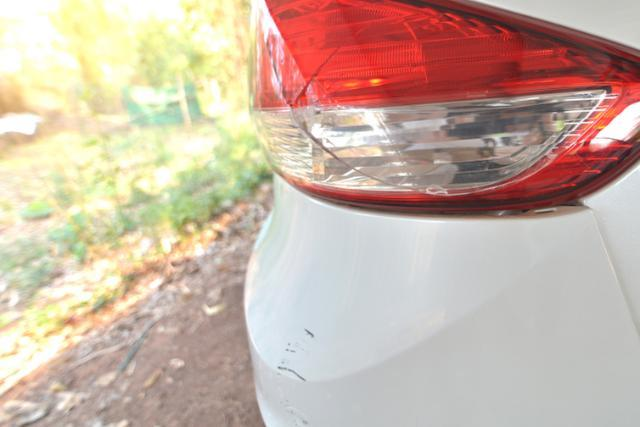Bumper: (242, 296, 392, 422)
